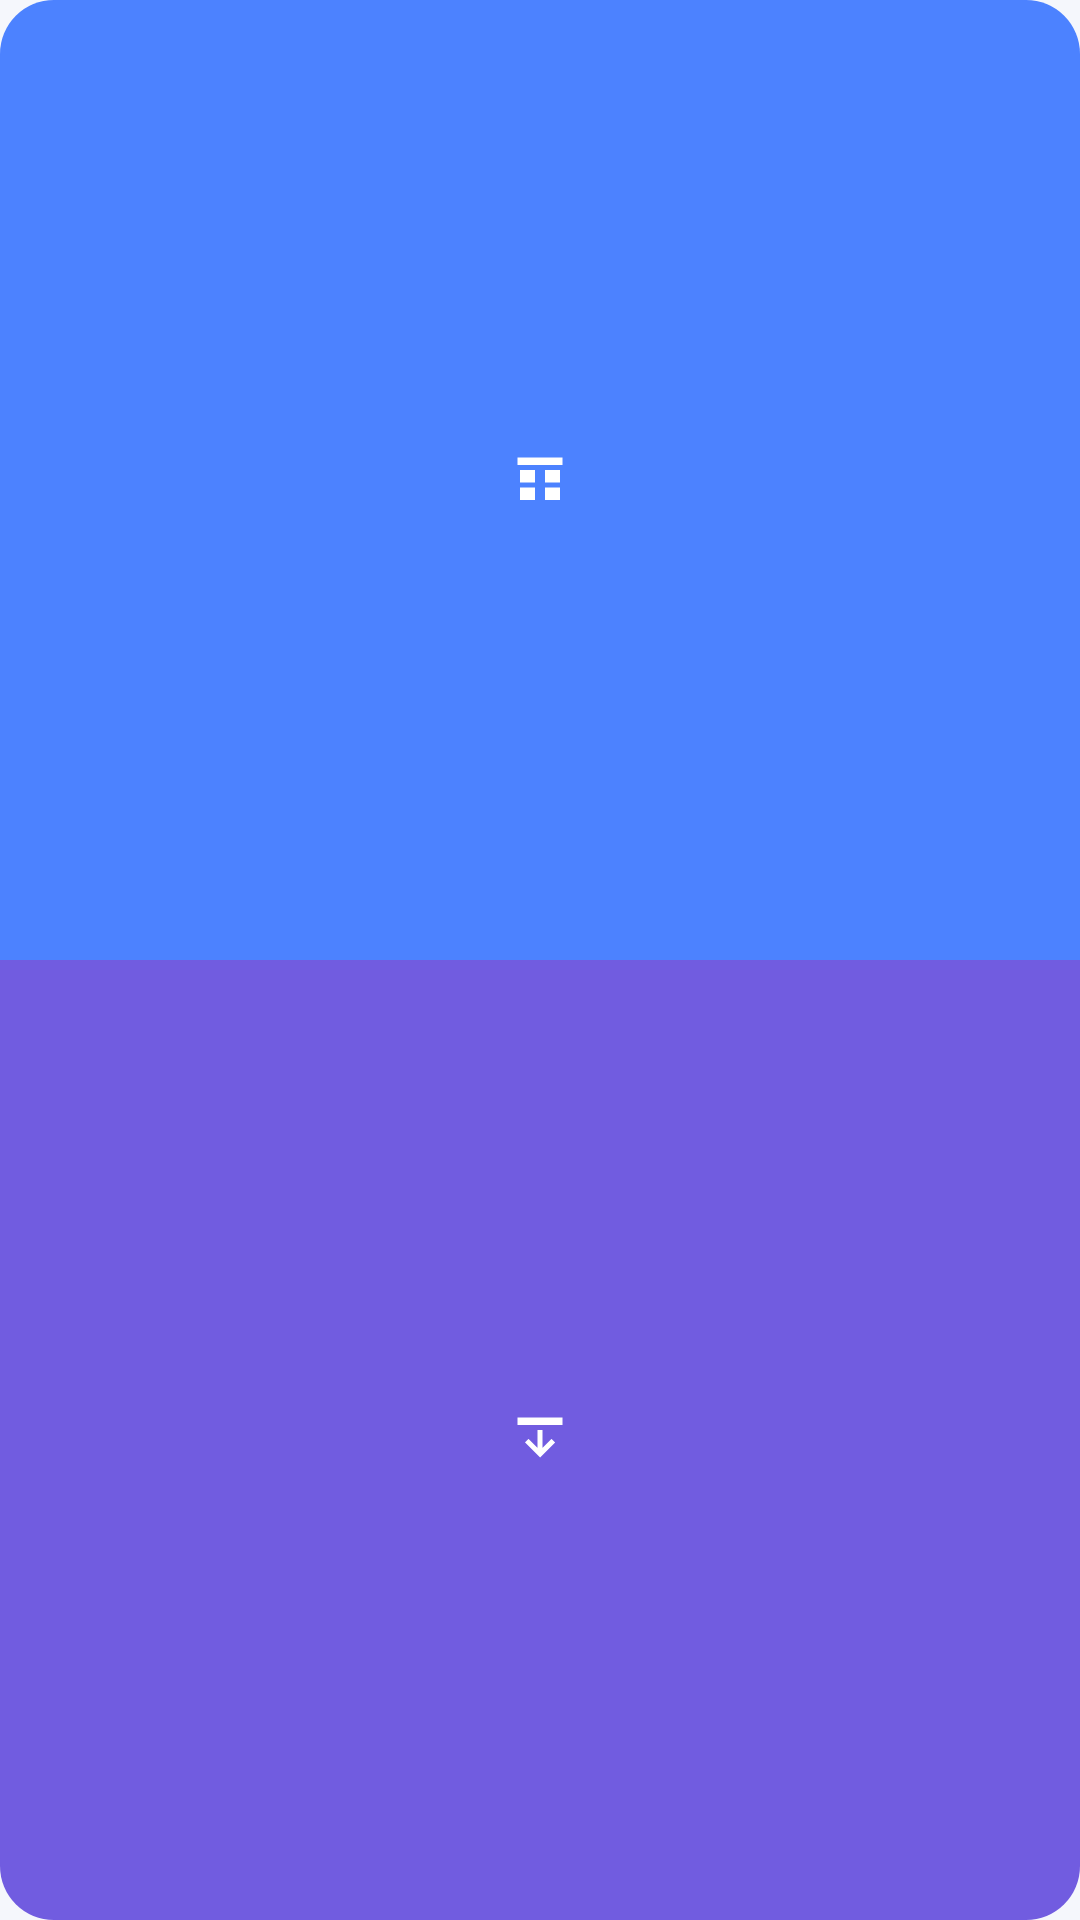

Icons on this 1080*1920 Android screen, each with its box as bbox=(x1, y1, x2, y2):
control panel: bbox=(517, 457, 563, 500)
pull down panel: bbox=(517, 1417, 563, 1458)
